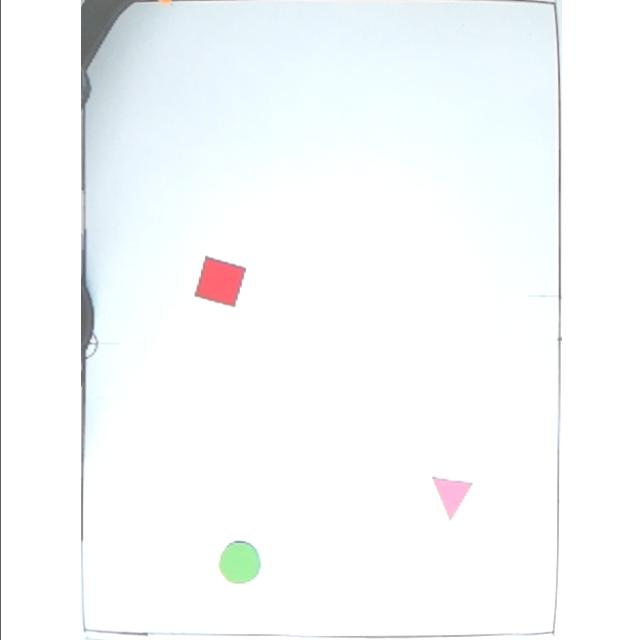greenCircle: (212, 538, 260, 586)
pinkTriangle: (428, 474, 472, 524)
redSquare: (190, 256, 244, 308)
